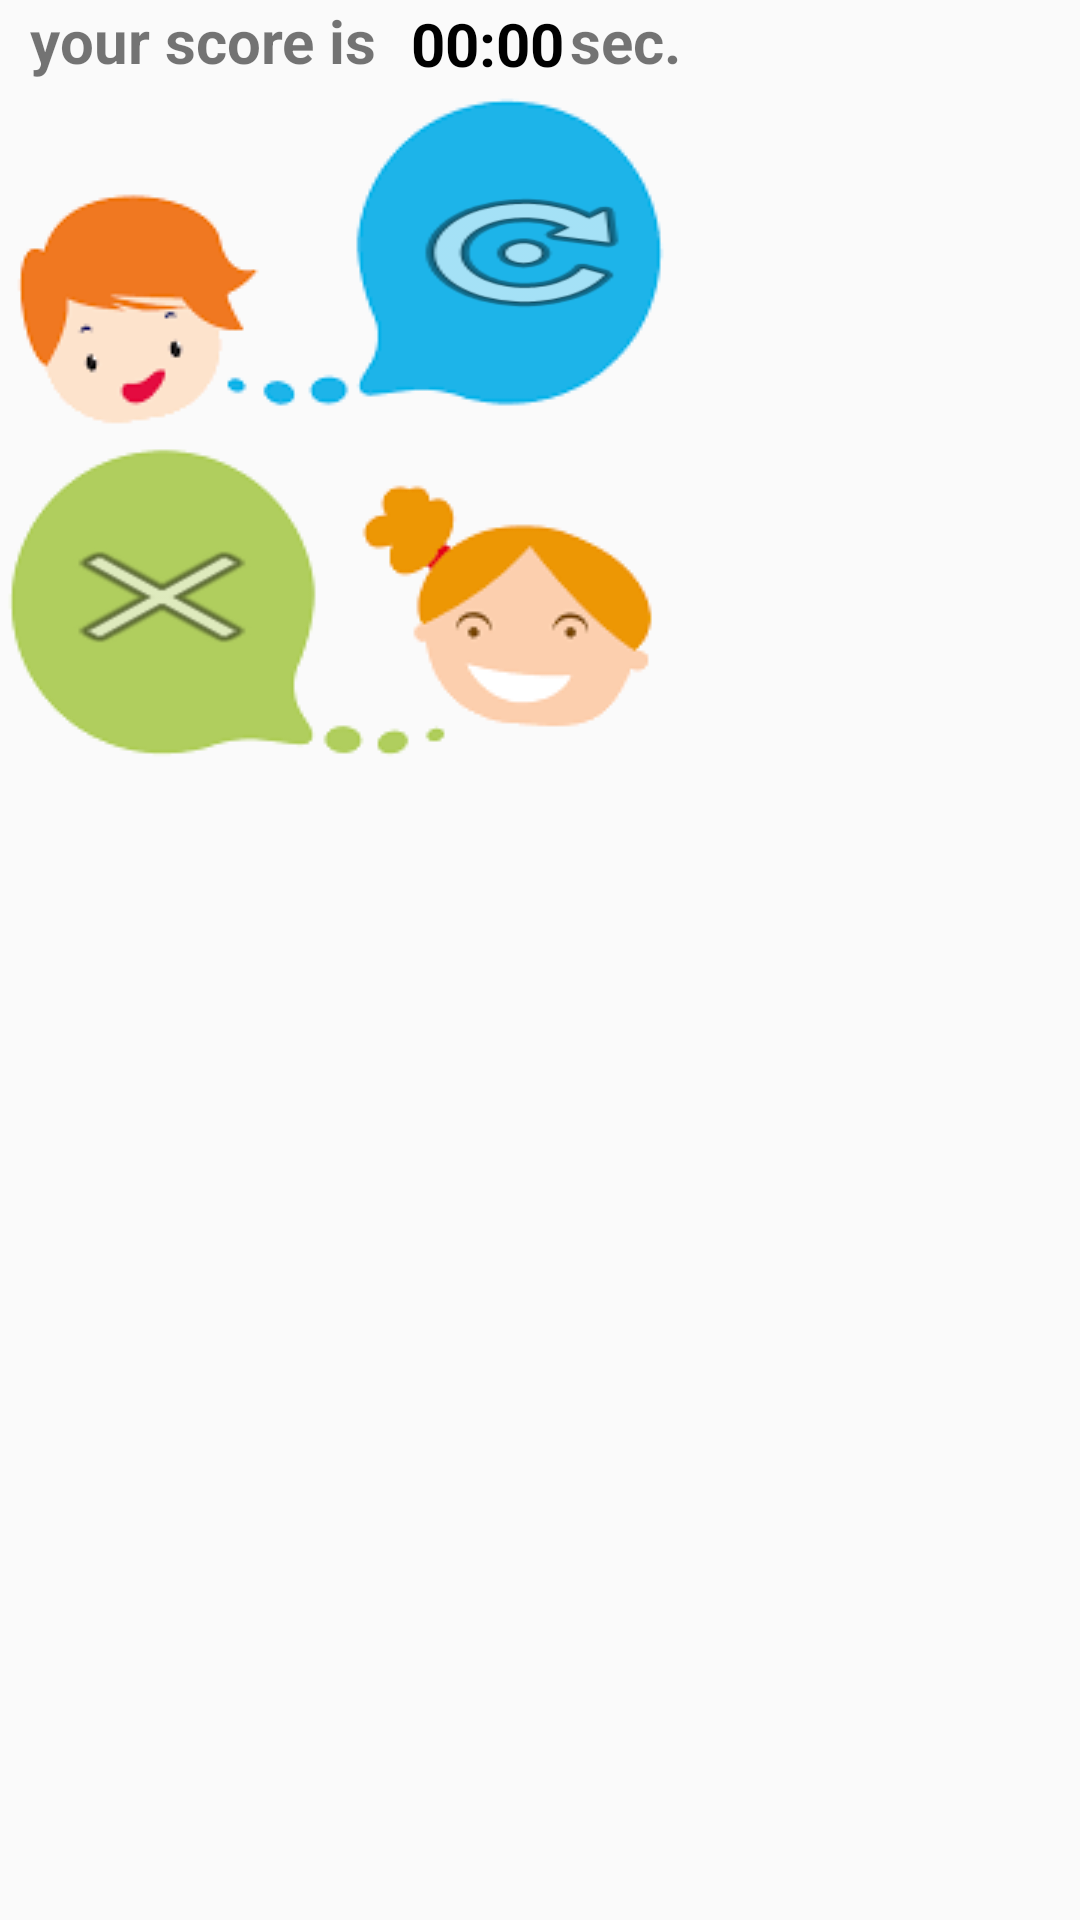

Where to tap for icons on this 1080px×1920px app screen, as [x,y]:
close clear cancel: [162,597]
rotate: [522,253]
